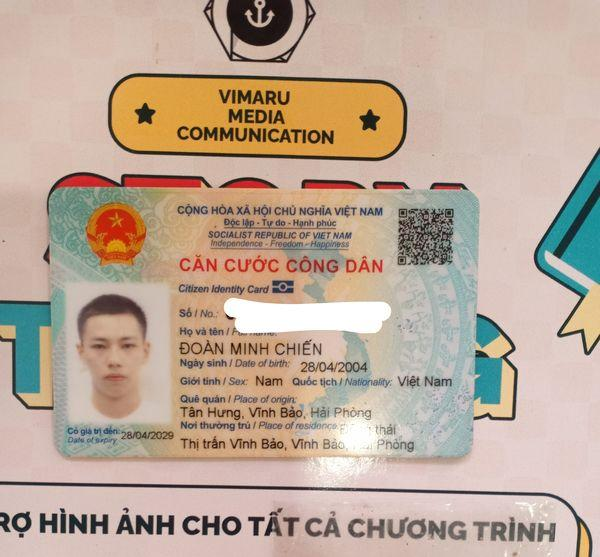bottom_left: (49, 440, 81, 461)
bottom_right: (449, 438, 482, 462)
image_person: (67, 284, 173, 423)
top_left: (28, 177, 70, 204)
top_right: (460, 183, 490, 204)
